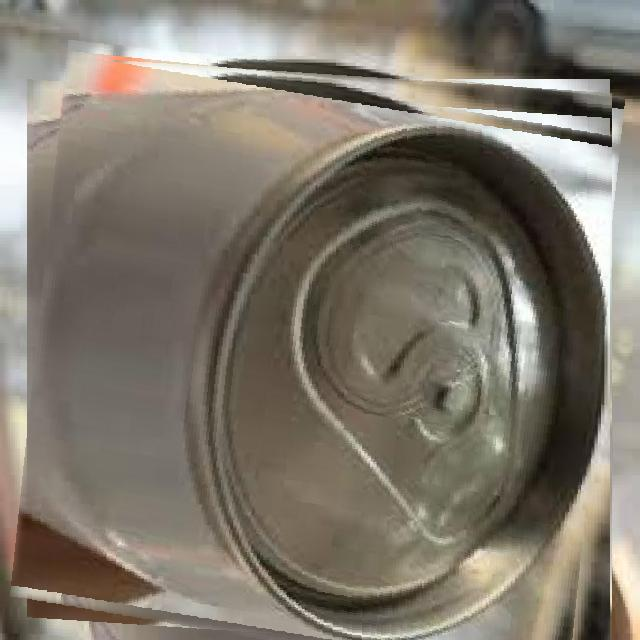recyclable: (24, 54, 612, 640)
